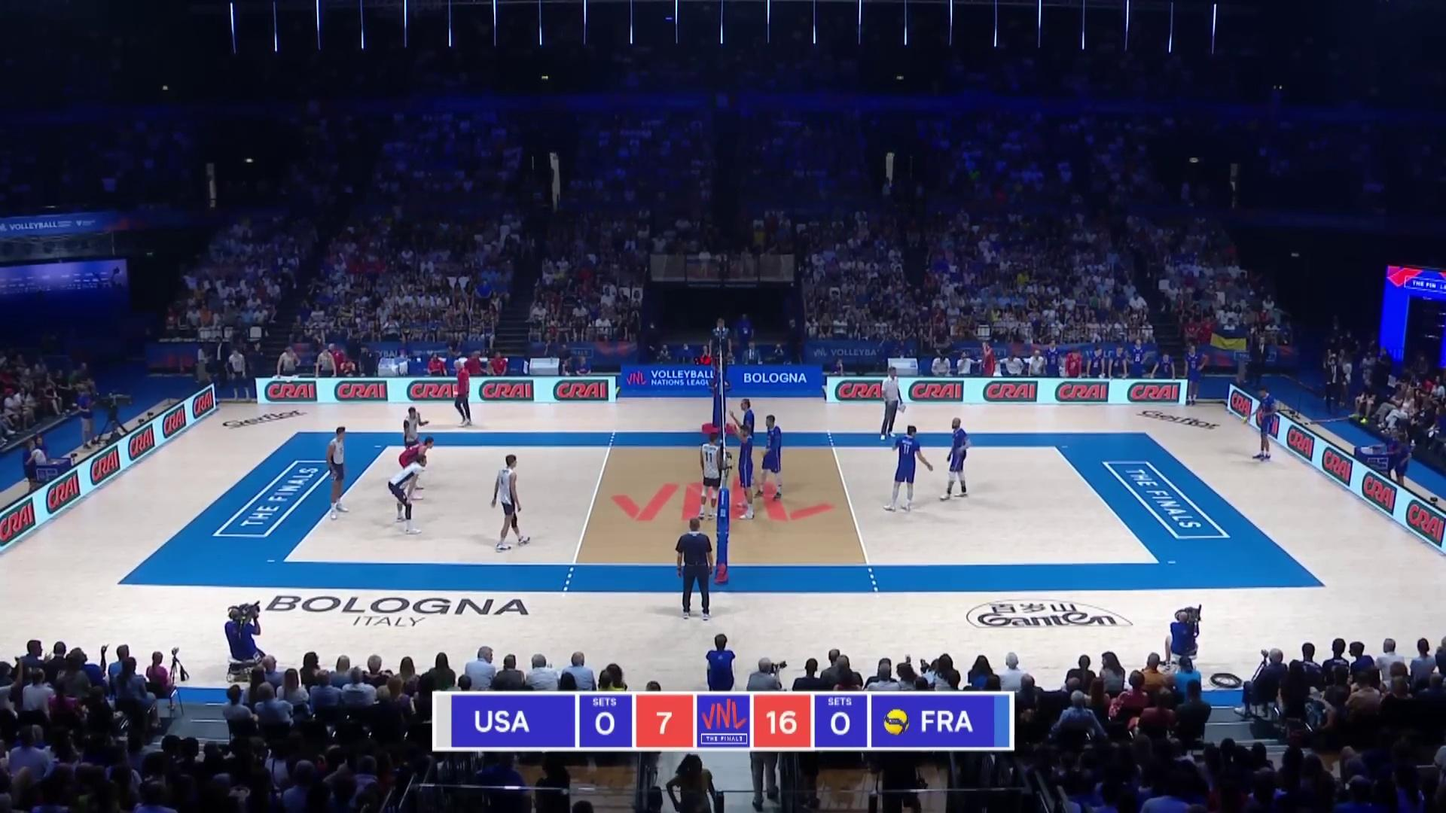player: (491, 456, 532, 552), (885, 424, 930, 511), (389, 451, 427, 536), (325, 426, 353, 521), (696, 429, 724, 521), (940, 418, 970, 500), (756, 416, 784, 498), (396, 432, 431, 497), (399, 407, 433, 471), (1251, 385, 1278, 463), (736, 426, 758, 521), (734, 400, 758, 479)
refree: (673, 522, 713, 622), (711, 319, 733, 388)
